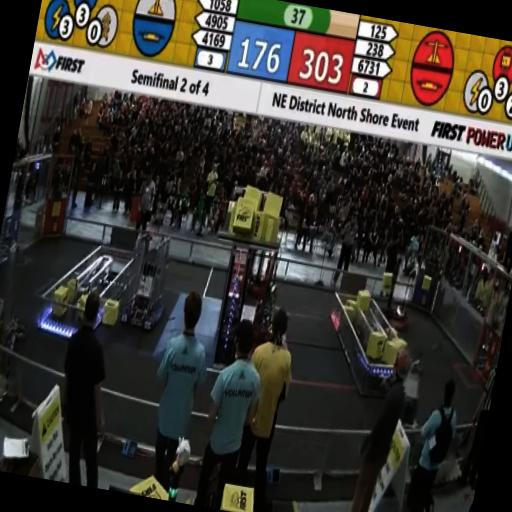robot: (120, 224, 178, 332), (244, 240, 288, 352), (0, 236, 42, 349), (240, 215, 284, 303), (378, 254, 420, 336)
